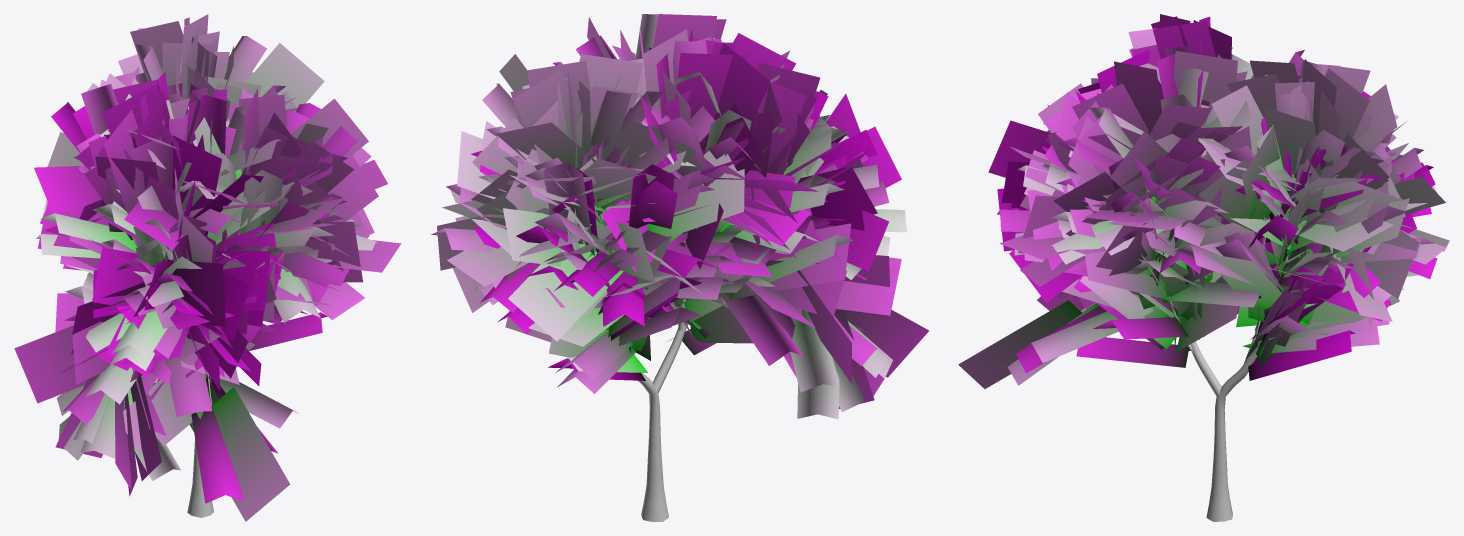
Rendered from rowan_06.fbx.
3 views of the same model, side by side, from view 1: azimuth 30°, elevation 25°; view 2: azimuth 150°, elevation 25°; view 3: azimuth 270°, elevation 25° (orthographic). The views are drawn at different scales.
Parts seen in each view (by area): view 1: rowan_leaves_06_shadow, rowan_leaves_06_lod0, rowan_tree_06_lod0; view 2: rowan_leaves_06_shadow, rowan_leaves_06_lod0, rowan_tree_06_lod0; view 3: rowan_leaves_06_shadow, rowan_leaves_06_lod0, rowan_tree_06_lod0.
Part boxes in pixels (left/top/right/bottom): rowan_leaves_06_shadow: left=14, top=14, right=401, bottom=521; rowan_leaves_06_lod0: left=36, top=36, right=377, bottom=503; rowan_tree_06_lod0: left=187, top=375, right=213, bottom=517; rowan_leaves_06_shadow: left=437, top=14, right=929, bottom=408; rowan_leaves_06_lod0: left=431, top=14, right=906, bottom=419; rowan_tree_06_lod0: left=638, top=265, right=718, bottom=521; rowan_leaves_06_shadow: left=958, top=14, right=1449, bottom=388; rowan_leaves_06_lod0: left=997, top=45, right=1437, bottom=385; rowan_tree_06_lod0: left=1081, top=217, right=1310, bottom=521.
Size of what is drawn, in the model's own units: 4.87 by 6.53 by 6.18.
